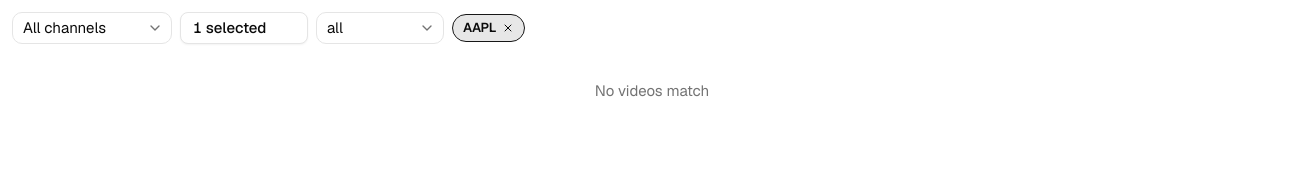
Test: FeedList ticker filters › removes a ticker when its chip is clicked
This screenshot has width=1292, height=172.
Click the button with test id "active-ticker-chip".
click(489, 28)  # box x1=452 y1=14 x2=525 y2=42
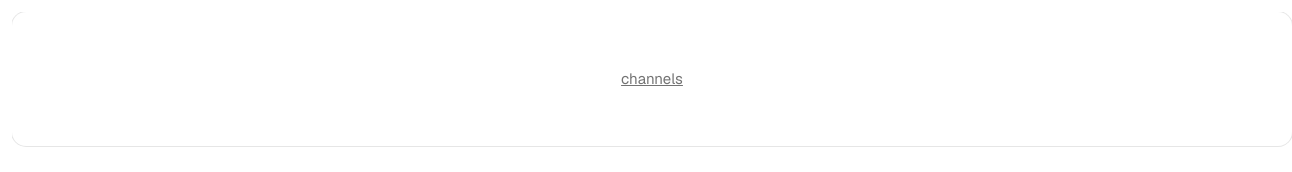
expect the button with test id "active-ticker-chip" is gone: met
